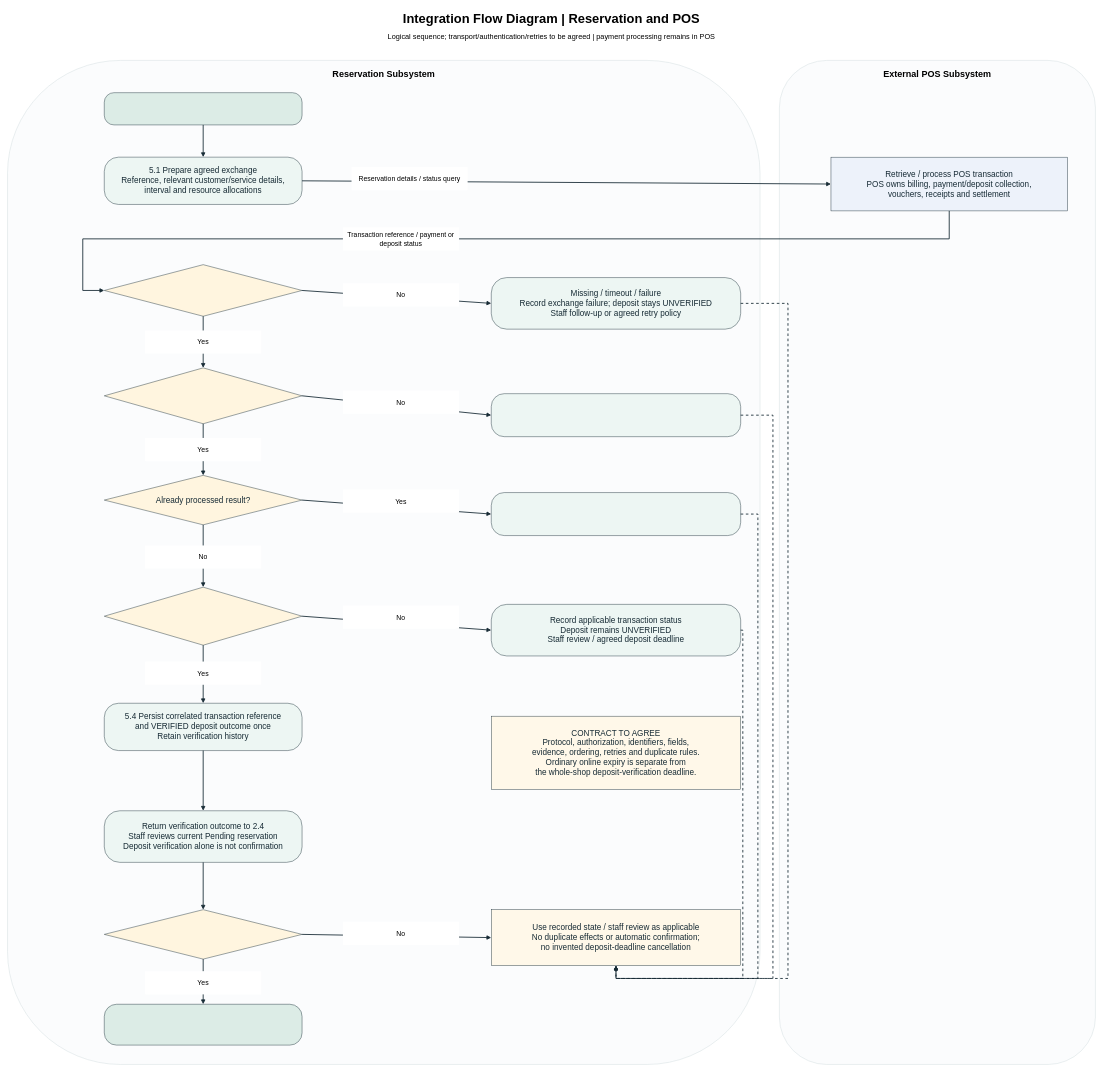
The diagram is 1103 pixels wide and 1072 high, and some of its shapes have lost their labels. The shapes that lost their labels are listed below. From the top down, each one's centre as x and y in pixels, then its label:
[203,108]: Committed reservation / staff deposit inquiry
[203,290]: POS result received?
[203,395]: 5.2 Response authentic, correlated and valid under agreed contract?
[616,415]: Reject / quarantine invalid response Record reason; no verified-deposit update
[616,514]: Return existing outcome No duplicate record or repeated effect
[203,616]: 5.3 Deposit evidence accepted under agreed verification rules?
[203,934]: Staff approves + booking eligible?
[203,1024]: Commit Confirmed state Send approval email after commit [3.1-3.3]
